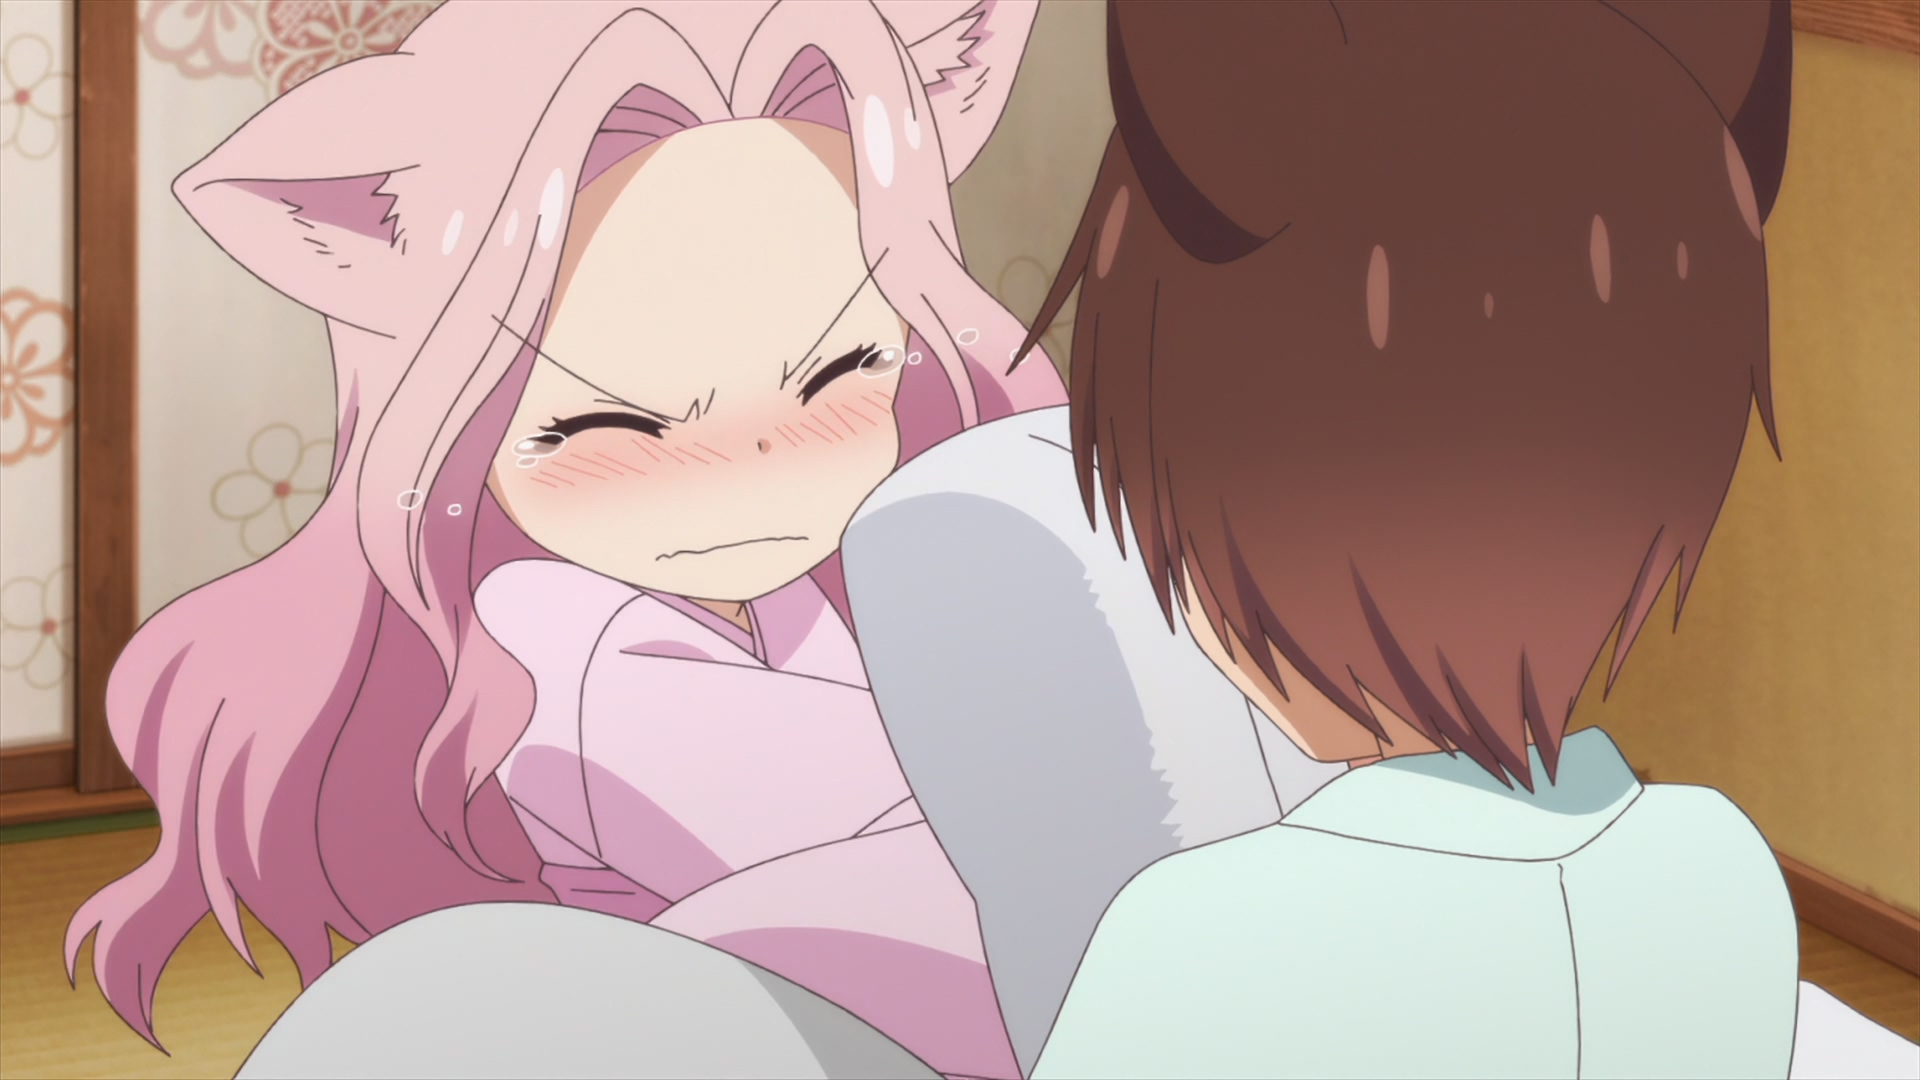枣: (1007, 1, 1803, 1080)
莲: (61, 1, 1065, 1080)
